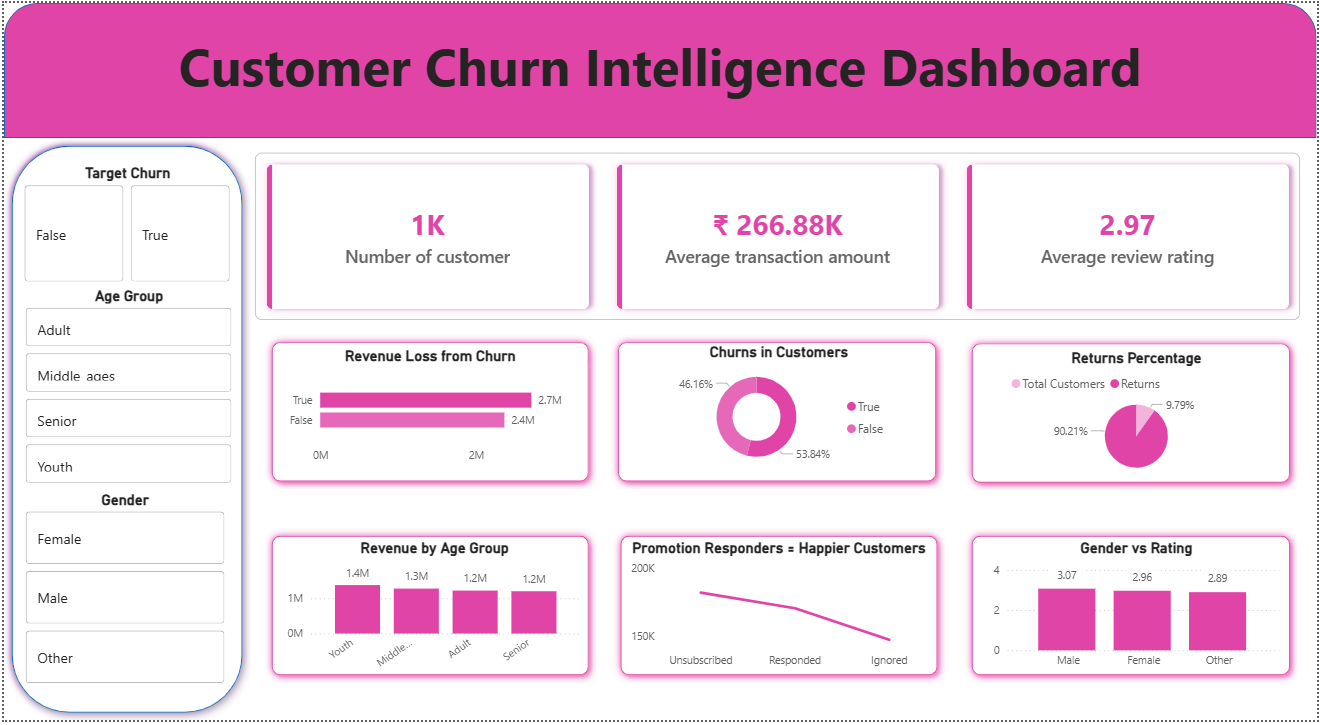

The dashboard page shown, as its layout file describes it:
{"tool":"powerbi","page":{"name":"Page 1","canvas":[1500,820],"ordinal":0},"visuals":[{"type":"cardVisual","fields":{"Data":["customer mytable.Number of customer","customer mytable.Average transaction amount","customer mytable.Average review rating"]},"box":[270,154.3,1230,225.7],"z":0},{"type":"shape","box":[0,0,1500,154.3],"z":1000},{"type":"textbox","box":[0,27.1,1500,114.3],"z":2000},{"type":"shape","box":[297.1,378.6,380,177.1],"z":3000},{"type":"shape","box":[692.9,378.6,381.4,177.1],"z":4000},{"type":"shape","box":[297.1,600,380,177.1],"z":5000},{"type":"shape","box":[1097.1,600,381.4,177.1],"z":6000},{"type":"shape","box":[1097.1,380,381.4,177.1],"z":7000},{"type":"clusteredBarChart","title":"Revenue Loss from Churn","fields":{"Category":["customer mytable.target_churn"],"Y":["Sum(customer mytable.total_spend)"]},"box":[318.6,392.9,337.1,142.9],"z":8000},{"type":"donutChart","title":"Churns in Customers","fields":{"Y":["Sum(customer mytable.customer_id)"],"Category":["customer mytable.target_churn"]},"box":[752.9,388.6,265.7,150],"z":9000},{"type":"pieChart","title":"Returns Percentage","fields":{"Y":["Avg(customer mytable.customer_id)","Sum(customer mytable.num_of_returns)"]},"box":[1145.7,395.7,297.1,150],"z":12000},{"type":"shape","box":[695.7,600,380,177.1],"z":13000},{"type":"lineChart","title":"Promotion Responders = Happier Customers","fields":{"Category":["customer mytable.promotion_response"],"Y":["Sum(customer mytable.customer_id)"]},"box":[711.4,612.9,348.6,157.1],"z":14000},{"type":"clusteredColumnChart","title":"Revenue by Age Group","fields":{"Y":["Sum(customer mytable.total_spend)"],"Category":["customer mytable.age_group"]},"box":[318.6,612.9,347.1,160],"z":15000},{"type":"shape","box":[0,154.3,281.4,665.7],"z":15001},{"type":"advancedSlicerVisual","title":"Gender","fields":{"Values":["customer mytable.gender"]},"box":[20,557.1,237.1,227.1],"z":15004},{"type":"advancedSlicerVisual","title":"Target Churn","fields":{"Values":["customer mytable.target_churn"]},"box":[18.6,184.3,245.7,140],"z":15005},{"type":"advancedSlicerVisual","title":"Age Group","fields":{"Values":["customer mytable.age_group"]},"box":[20,324.3,245.7,232.9],"z":15006},{"type":"lineStackedColumnComboChart","title":"Gender vs Rating","fields":{"Y":["Avg(customer mytable.rating)"],"Category":["customer mytable.gender"]},"box":[1125.7,612.9,337.1,157.1],"z":15007}]}

Visuals, with their boxes in screenshot pixels (x1, y1, x2, y2), scaled from the page's 1500x820 canvas onto the 1320x725 screenshot:
cardVisual - customer mytable.Number of customer x customer mytable.Average transaction amount: <region>238, 136, 1319, 336</region>
shape: <region>0, 0, 1319, 136</region>
textbox: <region>0, 24, 1319, 125</region>
shape: <region>261, 335, 596, 491</region>
shape: <region>610, 335, 945, 491</region>
shape: <region>261, 530, 596, 687</region>
shape: <region>965, 530, 1301, 687</region>
shape: <region>965, 336, 1301, 493</region>
"Revenue Loss from Churn" clusteredBarChart: <region>280, 347, 577, 474</region>
"Churns in Customers" donutChart: <region>663, 344, 896, 476</region>
"Returns Percentage" pieChart: <region>1008, 350, 1270, 482</region>
shape: <region>612, 530, 947, 687</region>
"Promotion Responders = Happier Customers" lineChart: <region>626, 542, 933, 681</region>
"Revenue by Age Group" clusteredColumnChart: <region>280, 542, 586, 683</region>
shape: <region>0, 136, 248, 724</region>
"Gender" advancedSlicerVisual: <region>18, 493, 226, 693</region>
"Target Churn" advancedSlicerVisual: <region>16, 163, 233, 287</region>
"Age Group" advancedSlicerVisual: <region>18, 287, 234, 493</region>
"Gender vs Rating" lineStackedColumnComboChart: <region>991, 542, 1287, 681</region>
